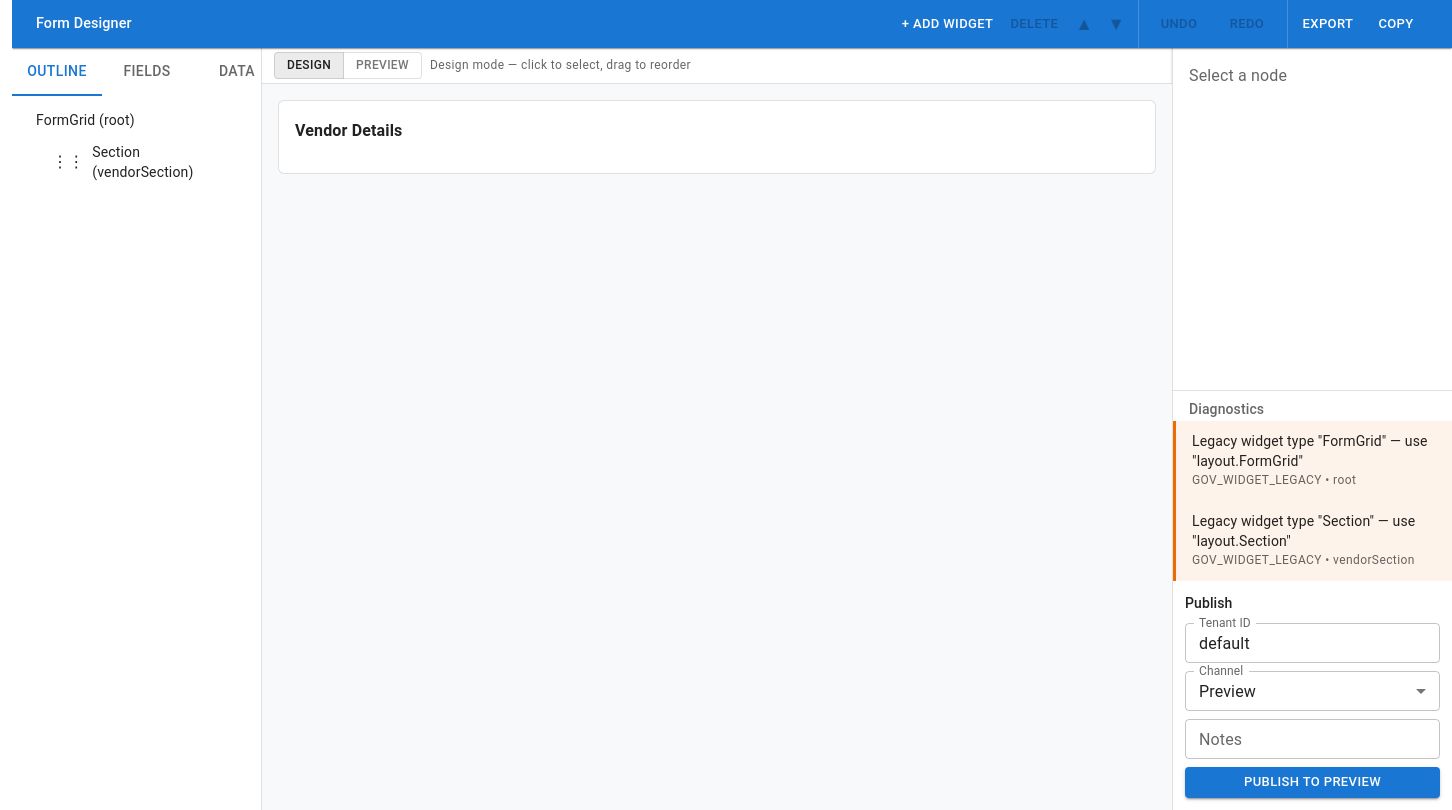
Test case: Studio Domain Fields › clicking Vendor Name in Domain Fields adds TextInput under selected Section and it appears in Outline
Click the text "Section (vendorSection)" at (143, 162), box [92, 144, 194, 180]
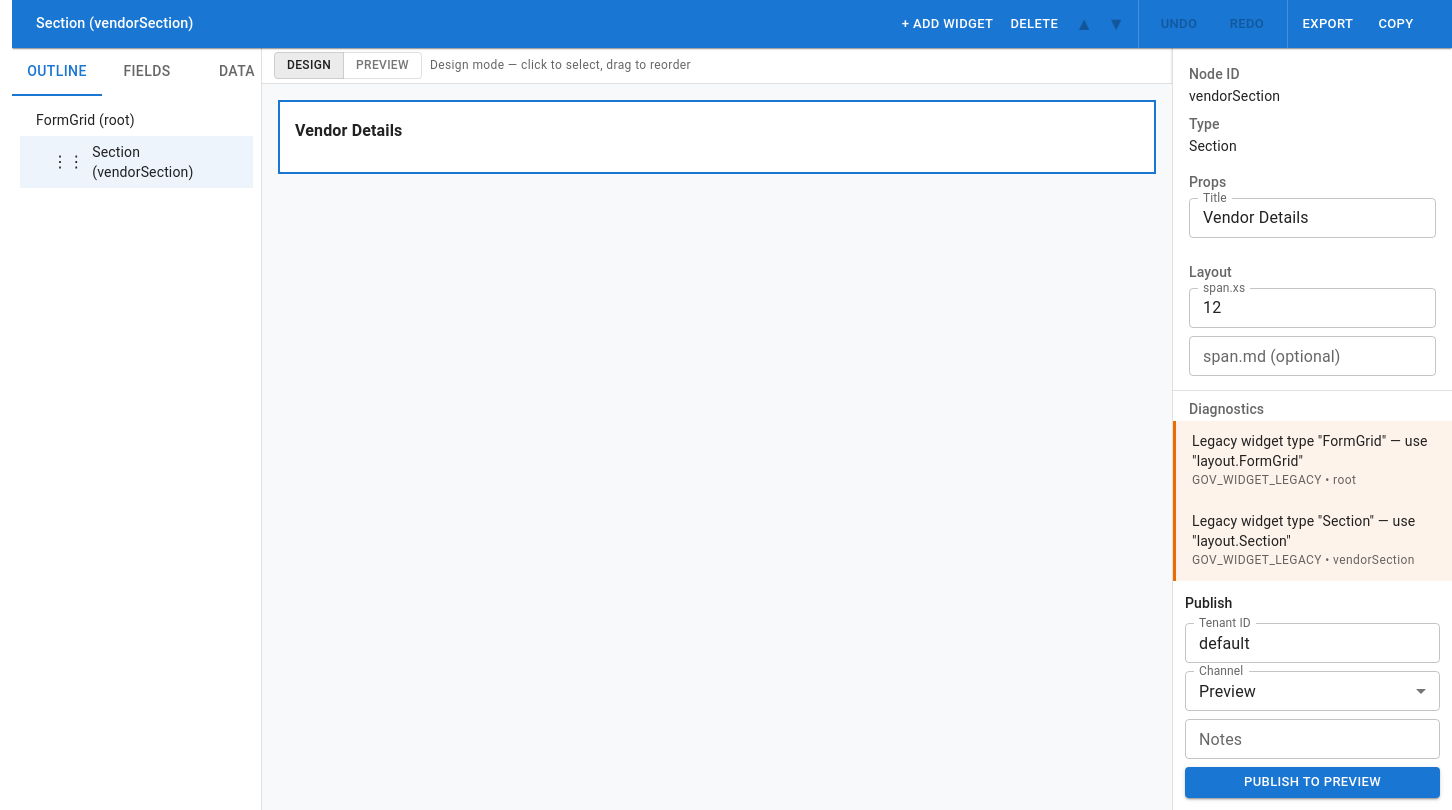
Click the tab with test id "tab-domain-fields" at (147, 72), box [102, 48, 192, 96]
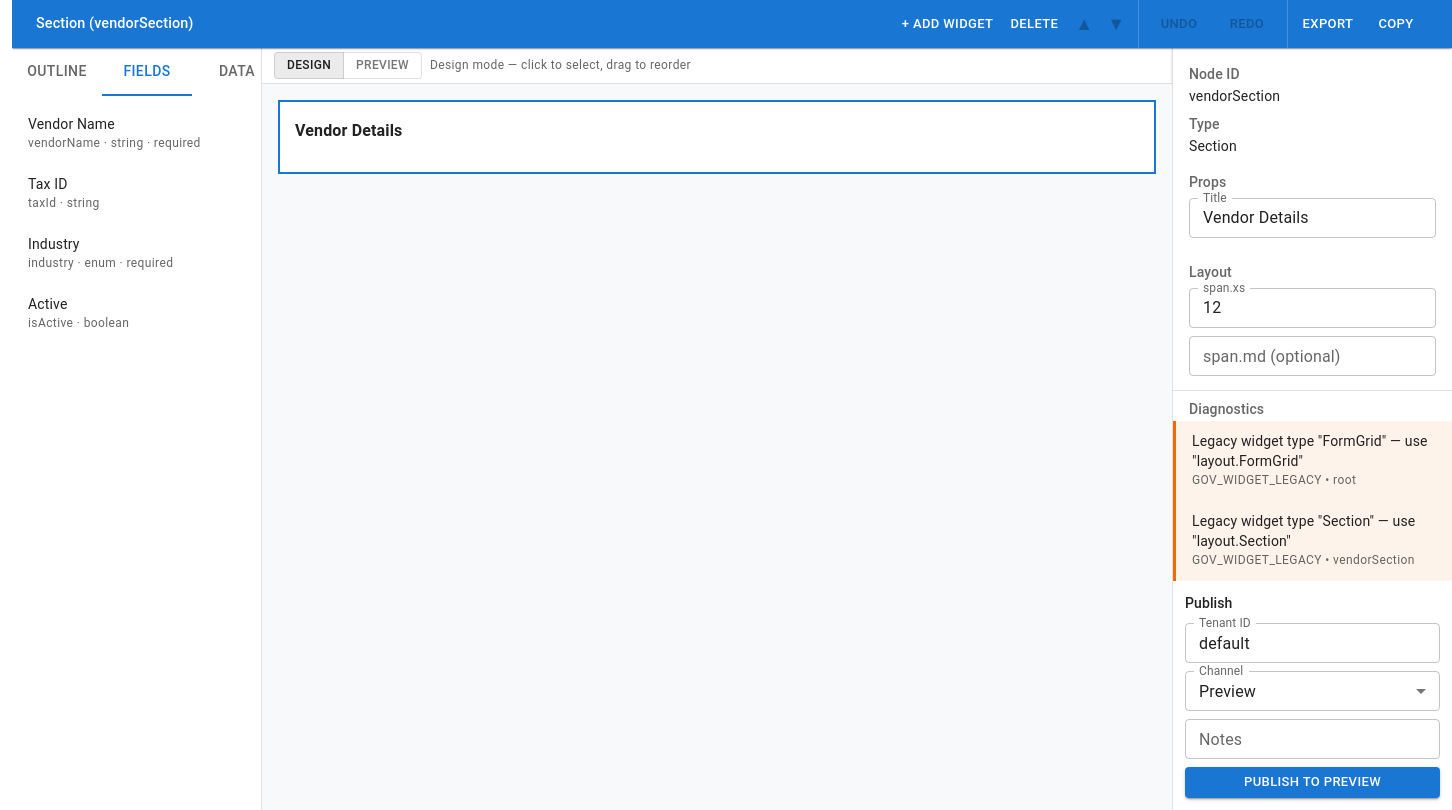
Click the button with test id "domain-field-vendorName" at (114, 133), box [28, 116, 201, 150]
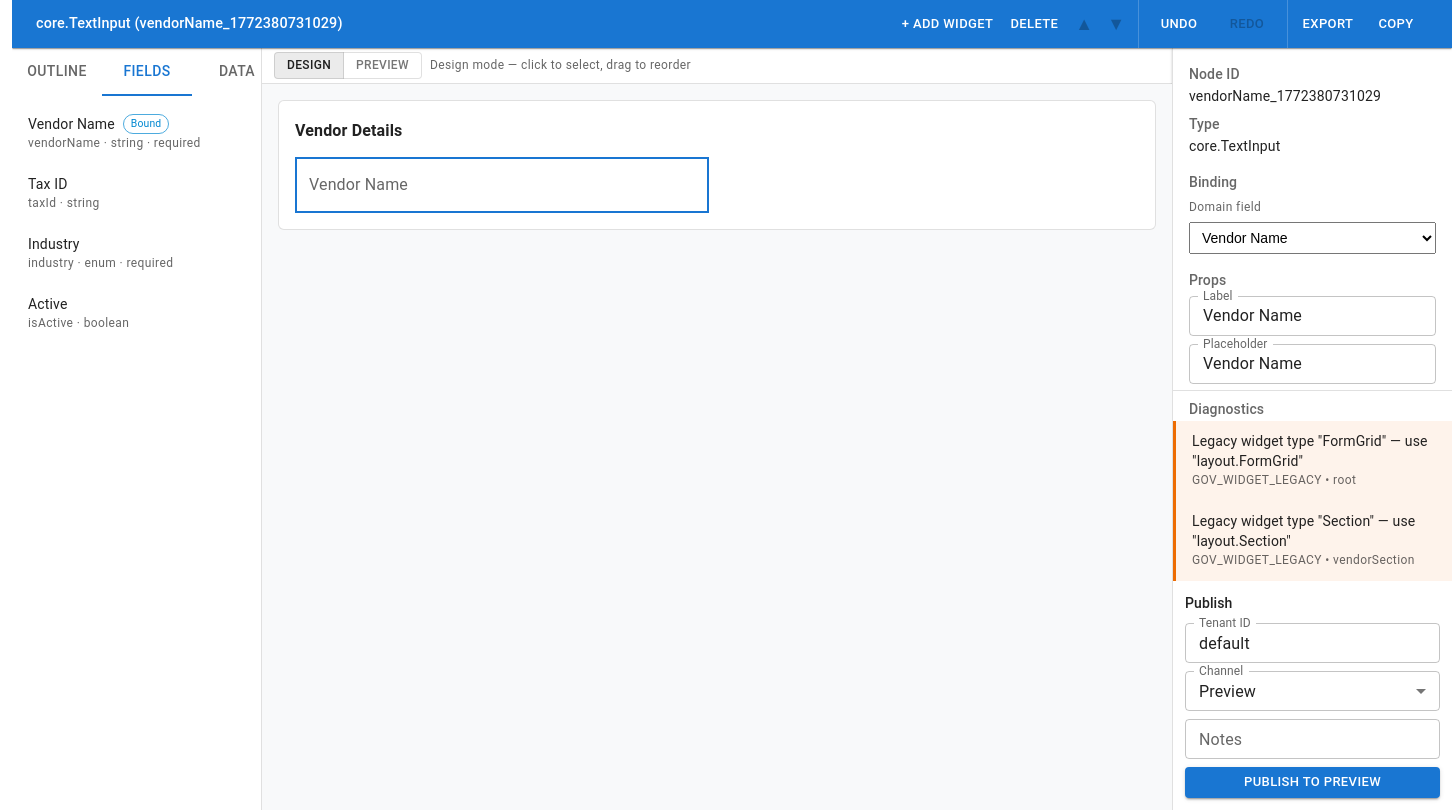
# Switch to Outline and verify the added node appears
Click the tab with test id "tab-outline" at (57, 72), box [12, 48, 102, 96]
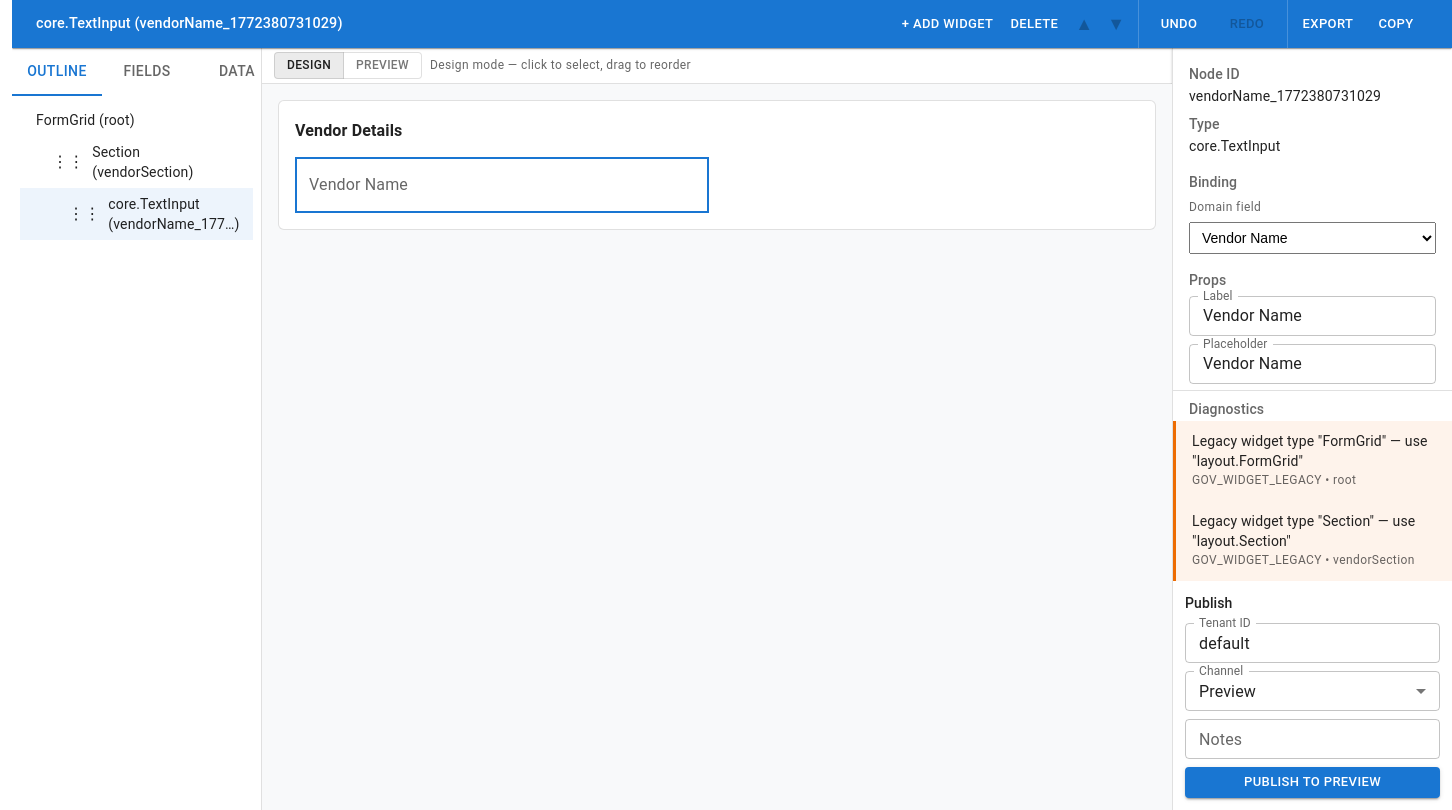
Check: the button with test id "undo-btn" is shown, box [1147, 9, 1211, 39]
Check: the navigation bar with test id "outline" shows "vendorName", box [108, 196, 240, 232]
Check: the navigation bar with test id "outline" shows "core.TextInput", box [108, 196, 240, 232]
# After adding vendorName, switching back to Domain Fields should show "Bound" indicator
Click the tab with test id "tab-domain-fields" at (147, 72), box [102, 48, 192, 96]
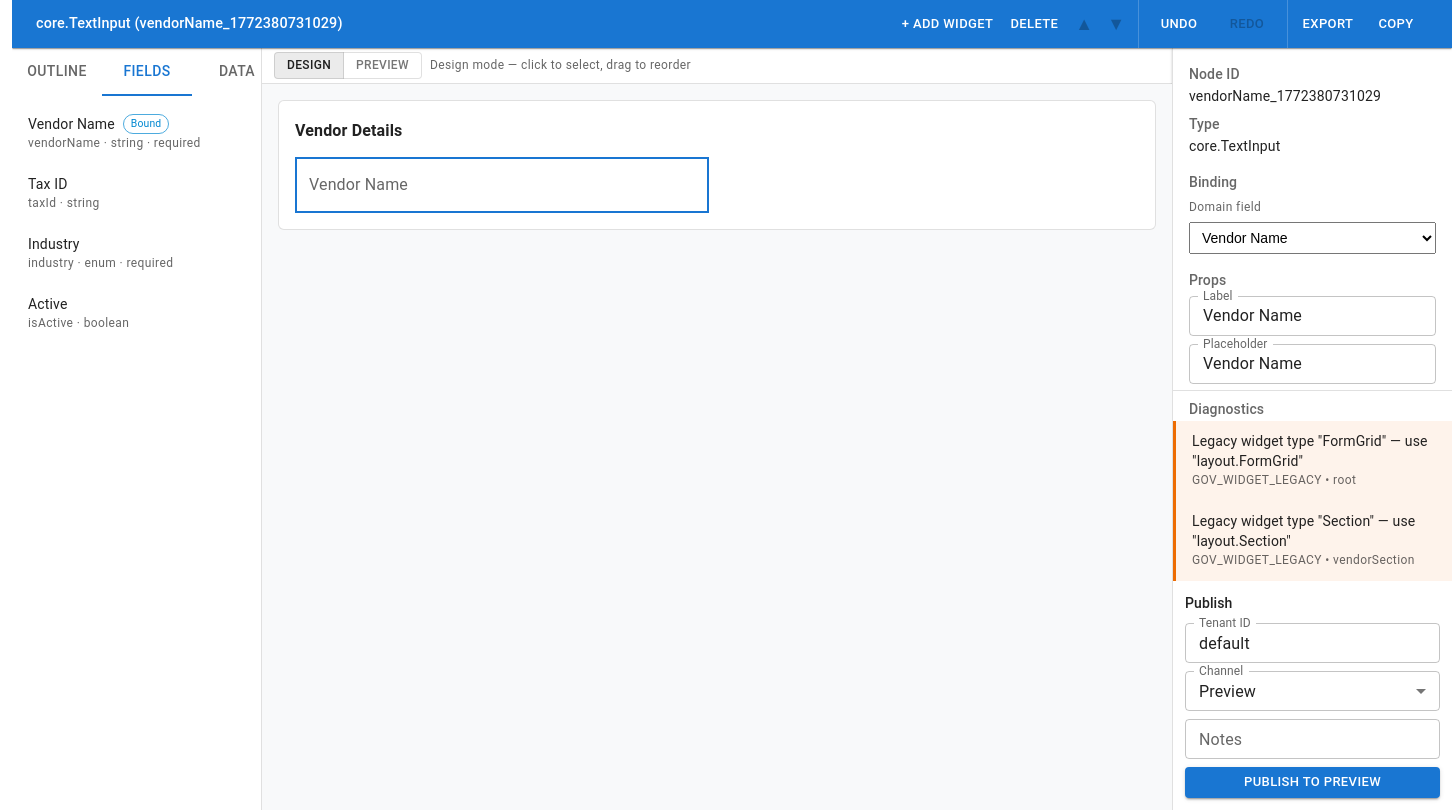
Check: the button with test id "domain-field-vendorName" shows "Bound", box [28, 114, 201, 150]
